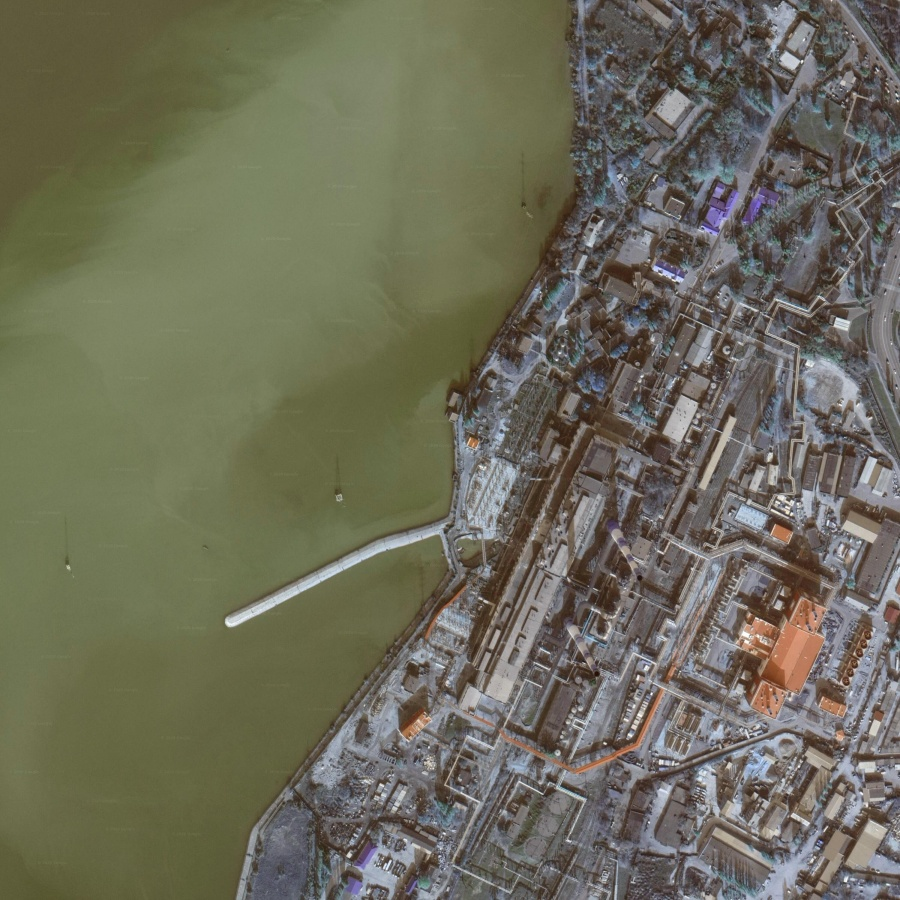PowerPlant: (430, 370, 704, 779)
